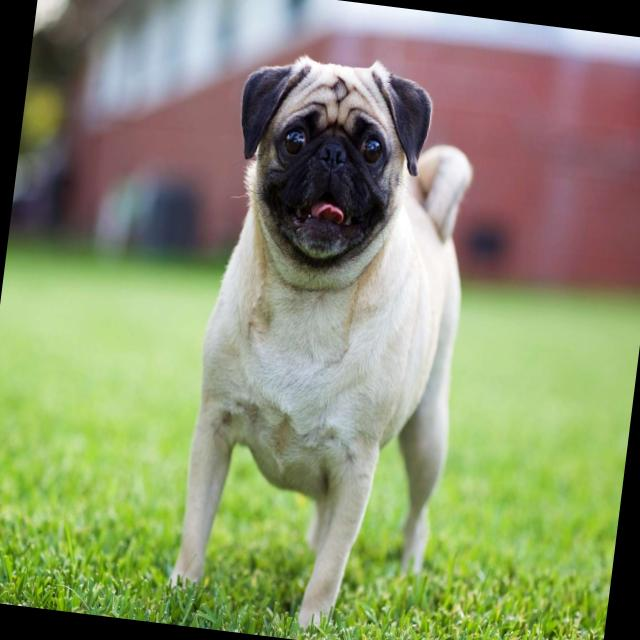Dog: (217, 44, 450, 282)
